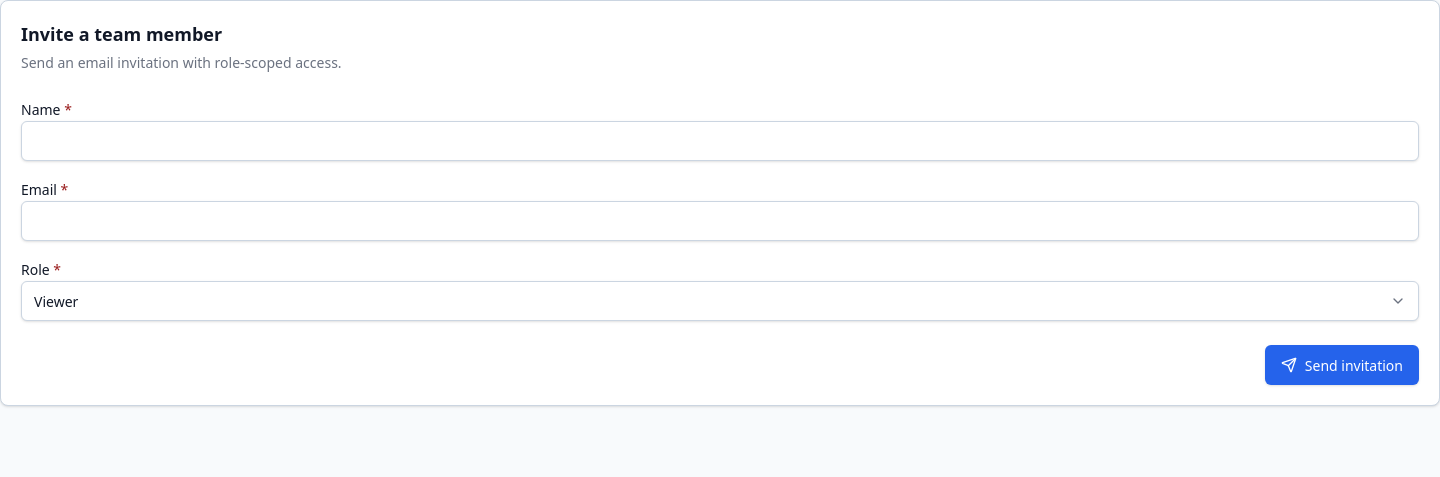
Test: InviteForm › shows a server error banner for non-conflict failures
Type "Dan" into the field labelled "Name *". click: (720, 141)
box: x1=21 y1=121 x2=1419 y2=161
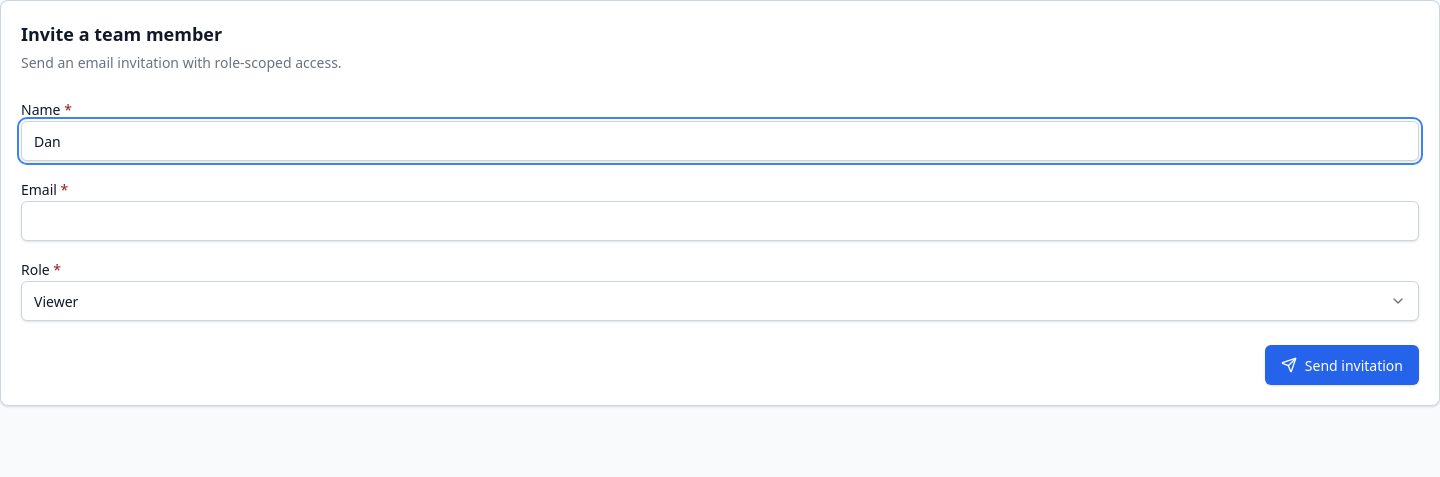
Type "dan@acme.com" into the field labelled "Email *". click: (720, 221)
box: x1=21 y1=201 x2=1419 y2=241
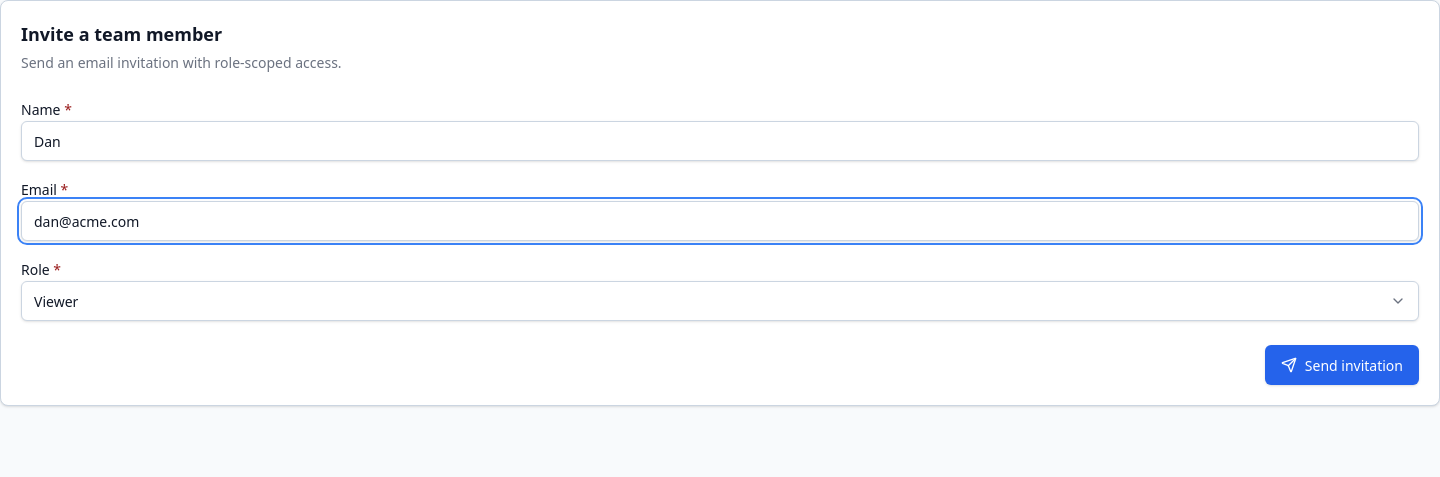
Click the button "Send invitation". click: (1342, 365)
box: x1=1265 y1=345 x2=1419 y2=385
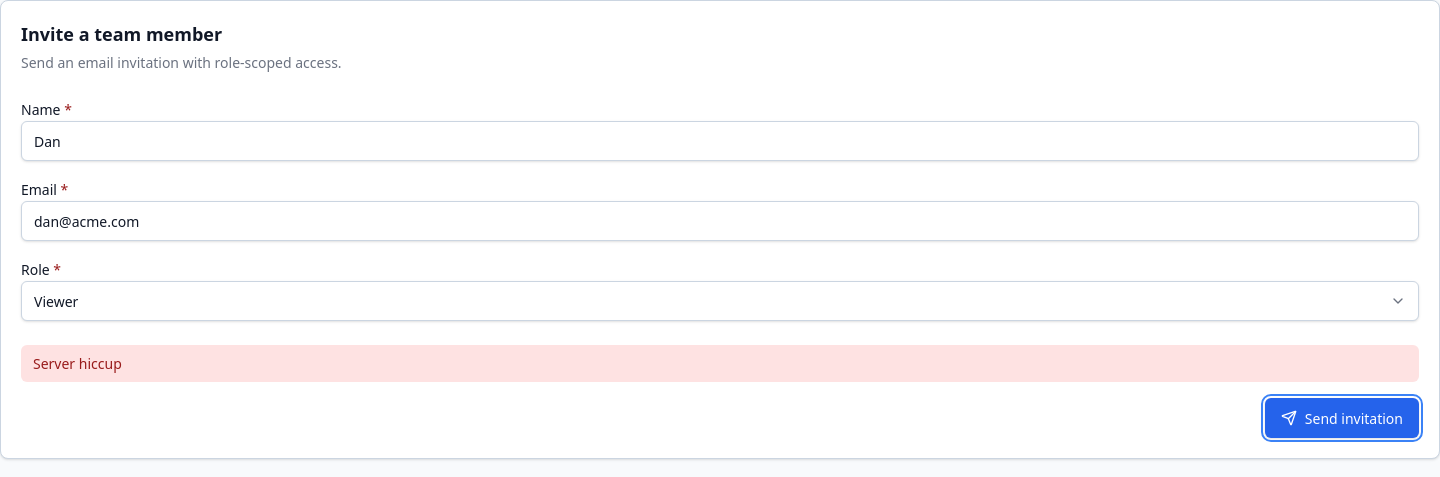
Check: the text "Server hiccup" is shown, box x1=21 y1=345 x2=1419 y2=382
